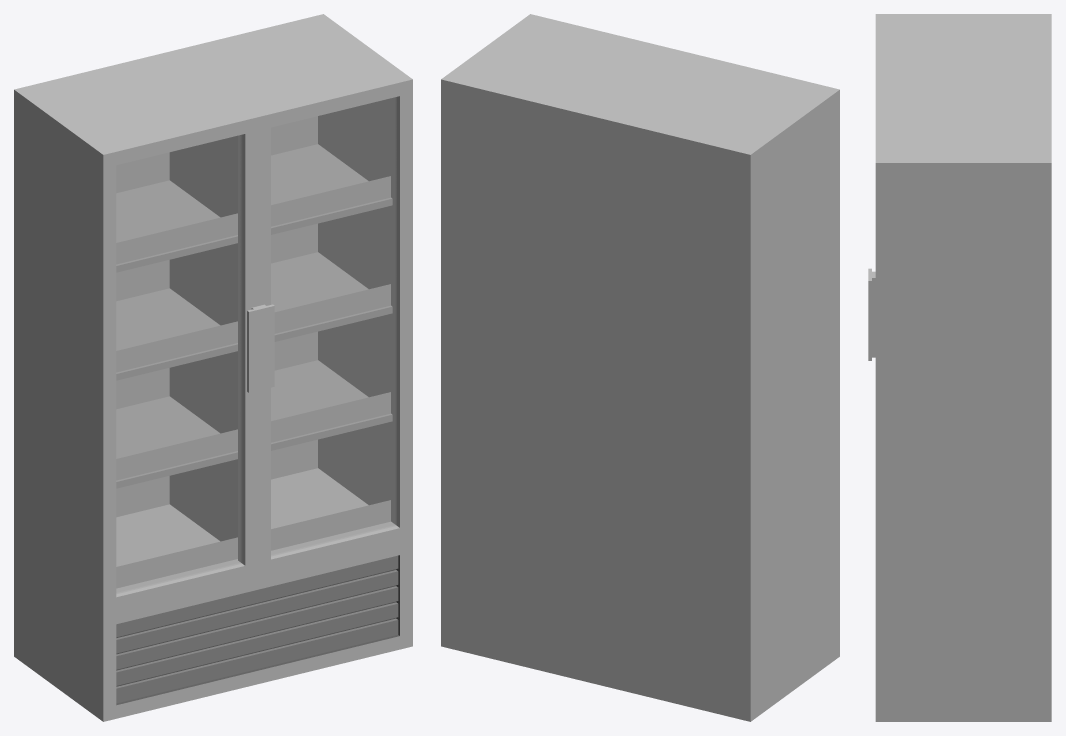
The model's file is Fridge02.fbx.
3 renders of one model, left to right at view 1: azimuth 30°, elevation 25°; view 2: azimuth 150°, elevation 25°; view 3: azimuth 270°, elevation 25°, orthographic.
Visible parts, largest first — view 1: Fridge, Door_Left, Door_Right; view 2: Fridge, Door_Left, Door_Right; view 3: Fridge, Door_Right, Door_Left.
Boxes of the visible parts, x1,y1,x2,y2 form: Fridge: [14, 14, 412, 721]; Door_Left: [96, 111, 261, 613]; Door_Right: [251, 74, 412, 575]; Fridge: [441, 19, 839, 721]; Door_Left: [678, 52, 839, 553]; Door_Right: [523, 14, 684, 56]; Fridge: [875, 14, 1051, 721]; Door_Right: [868, 88, 890, 615]; Door_Left: [868, 14, 890, 274].
Size of the model in its own units: 1.2 by 2.1 by 0.625.
